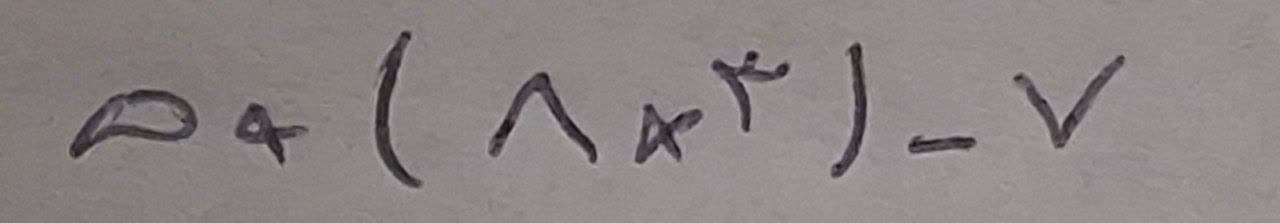character: (1009, 55, 1134, 150), (488, 66, 596, 170), (68, 88, 196, 156), (375, 31, 427, 192), (703, 49, 788, 134), (824, 41, 871, 176), (232, 102, 310, 168), (630, 102, 704, 170), (902, 134, 976, 153)
